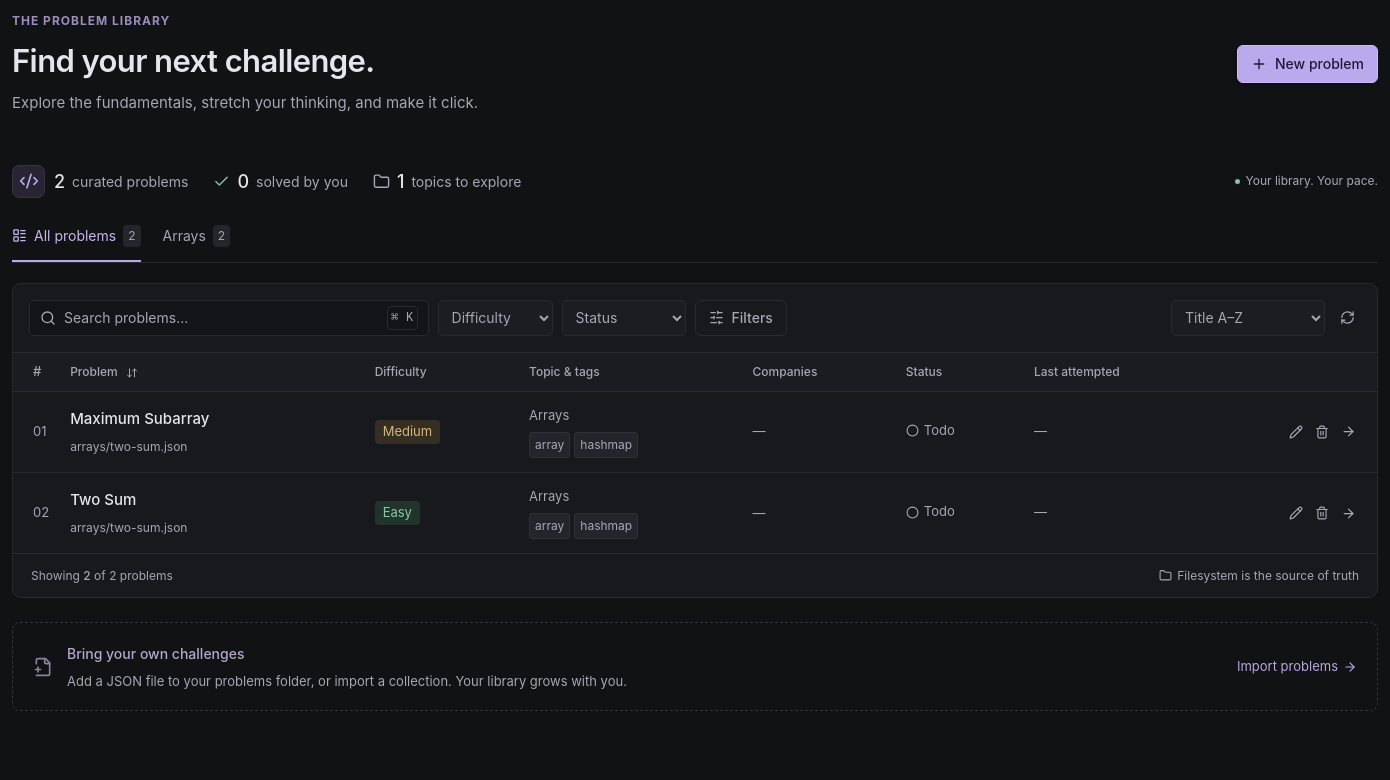
Test: filters library using search and difficulty
Check: the link "Two Sum" is shown, box [70,490,136,509]
Type "maximum" into the field labelled "Search problems" at (222, 318), box [64,303,379,332]
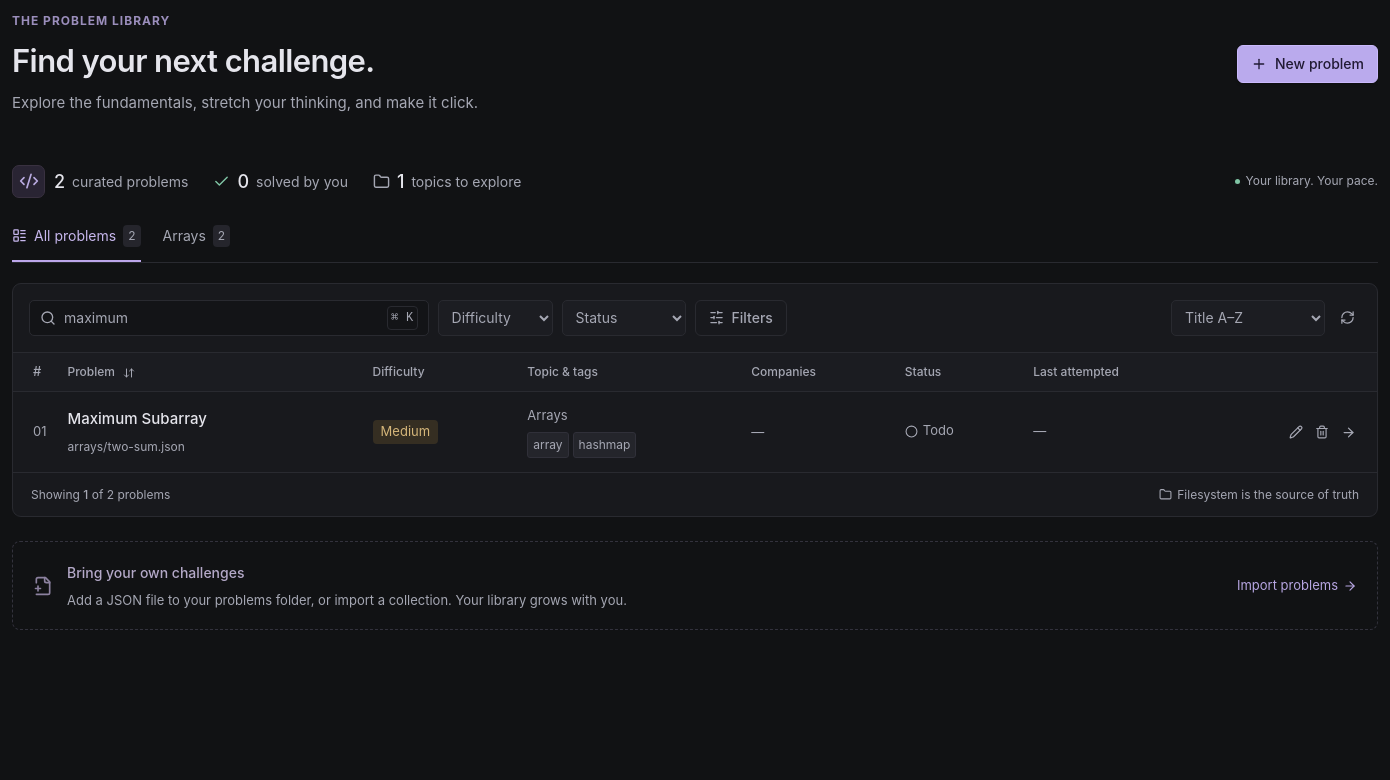
Check: the link "Maximum Subarray" is shown, box [68,409,207,428]
Check: the link "Two Sum" is gone
Clear the field named "Search problems" at (222, 318), box [64,303,379,332]
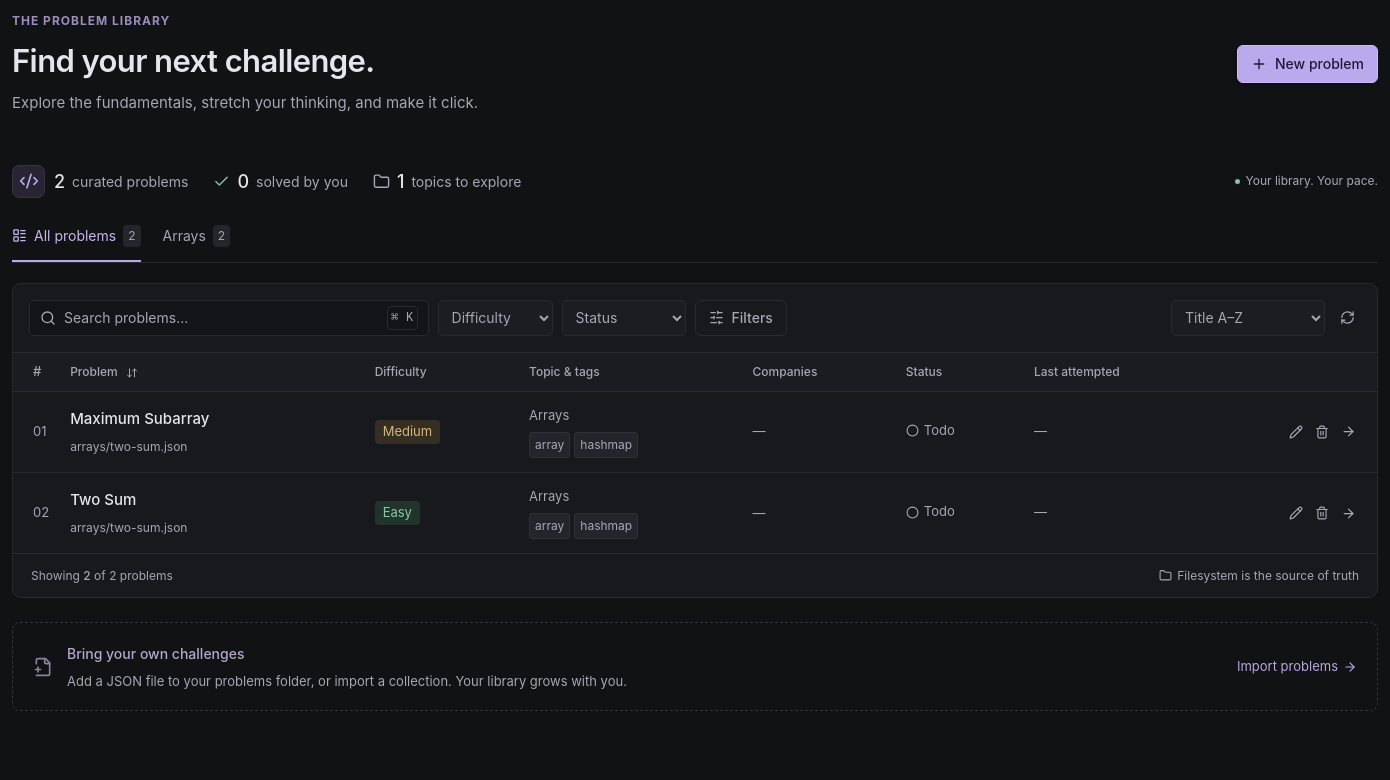
Select "easy" in the dropdown named "Filter difficulty" at (495, 318), box [438,300,553,336]
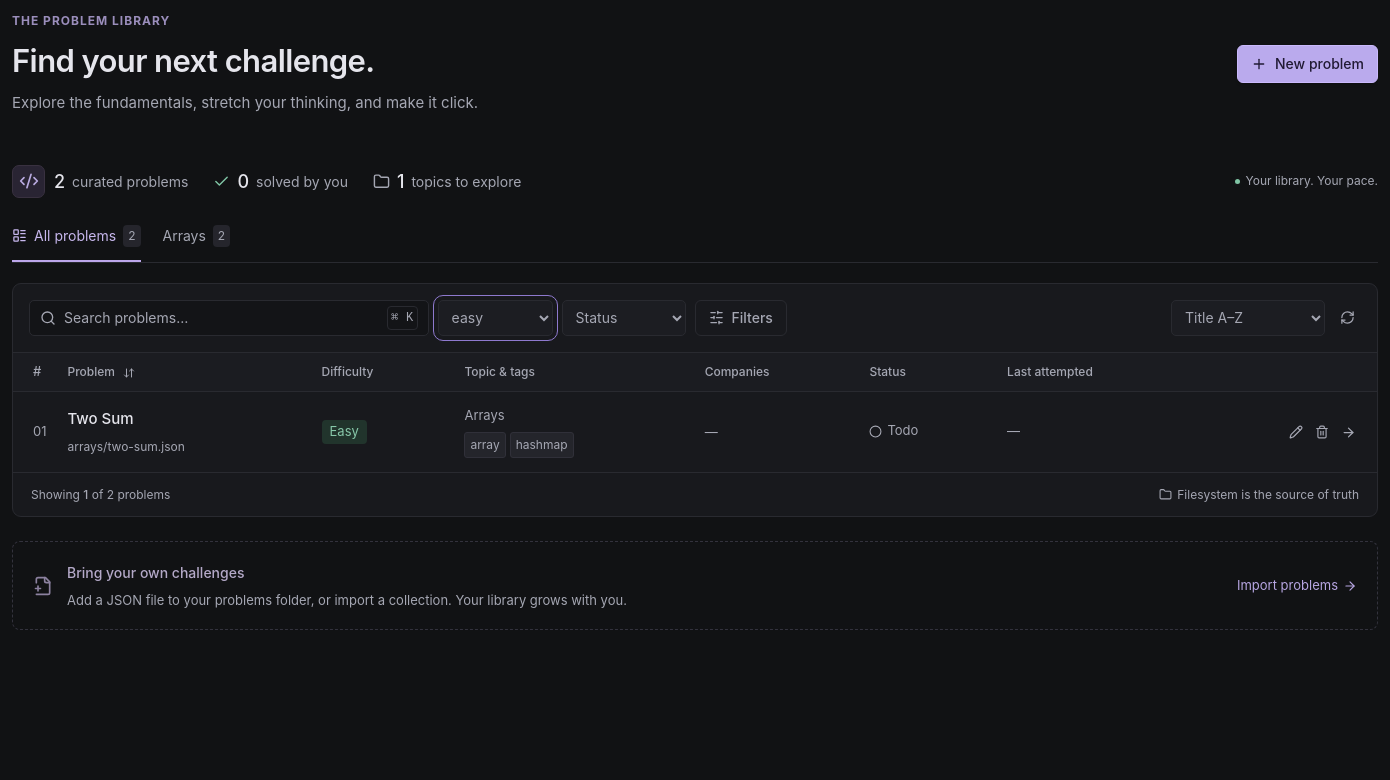
Check: the link "Two Sum" is shown, box [68,409,134,428]
Check: the link "Maximum Subarray" is gone
